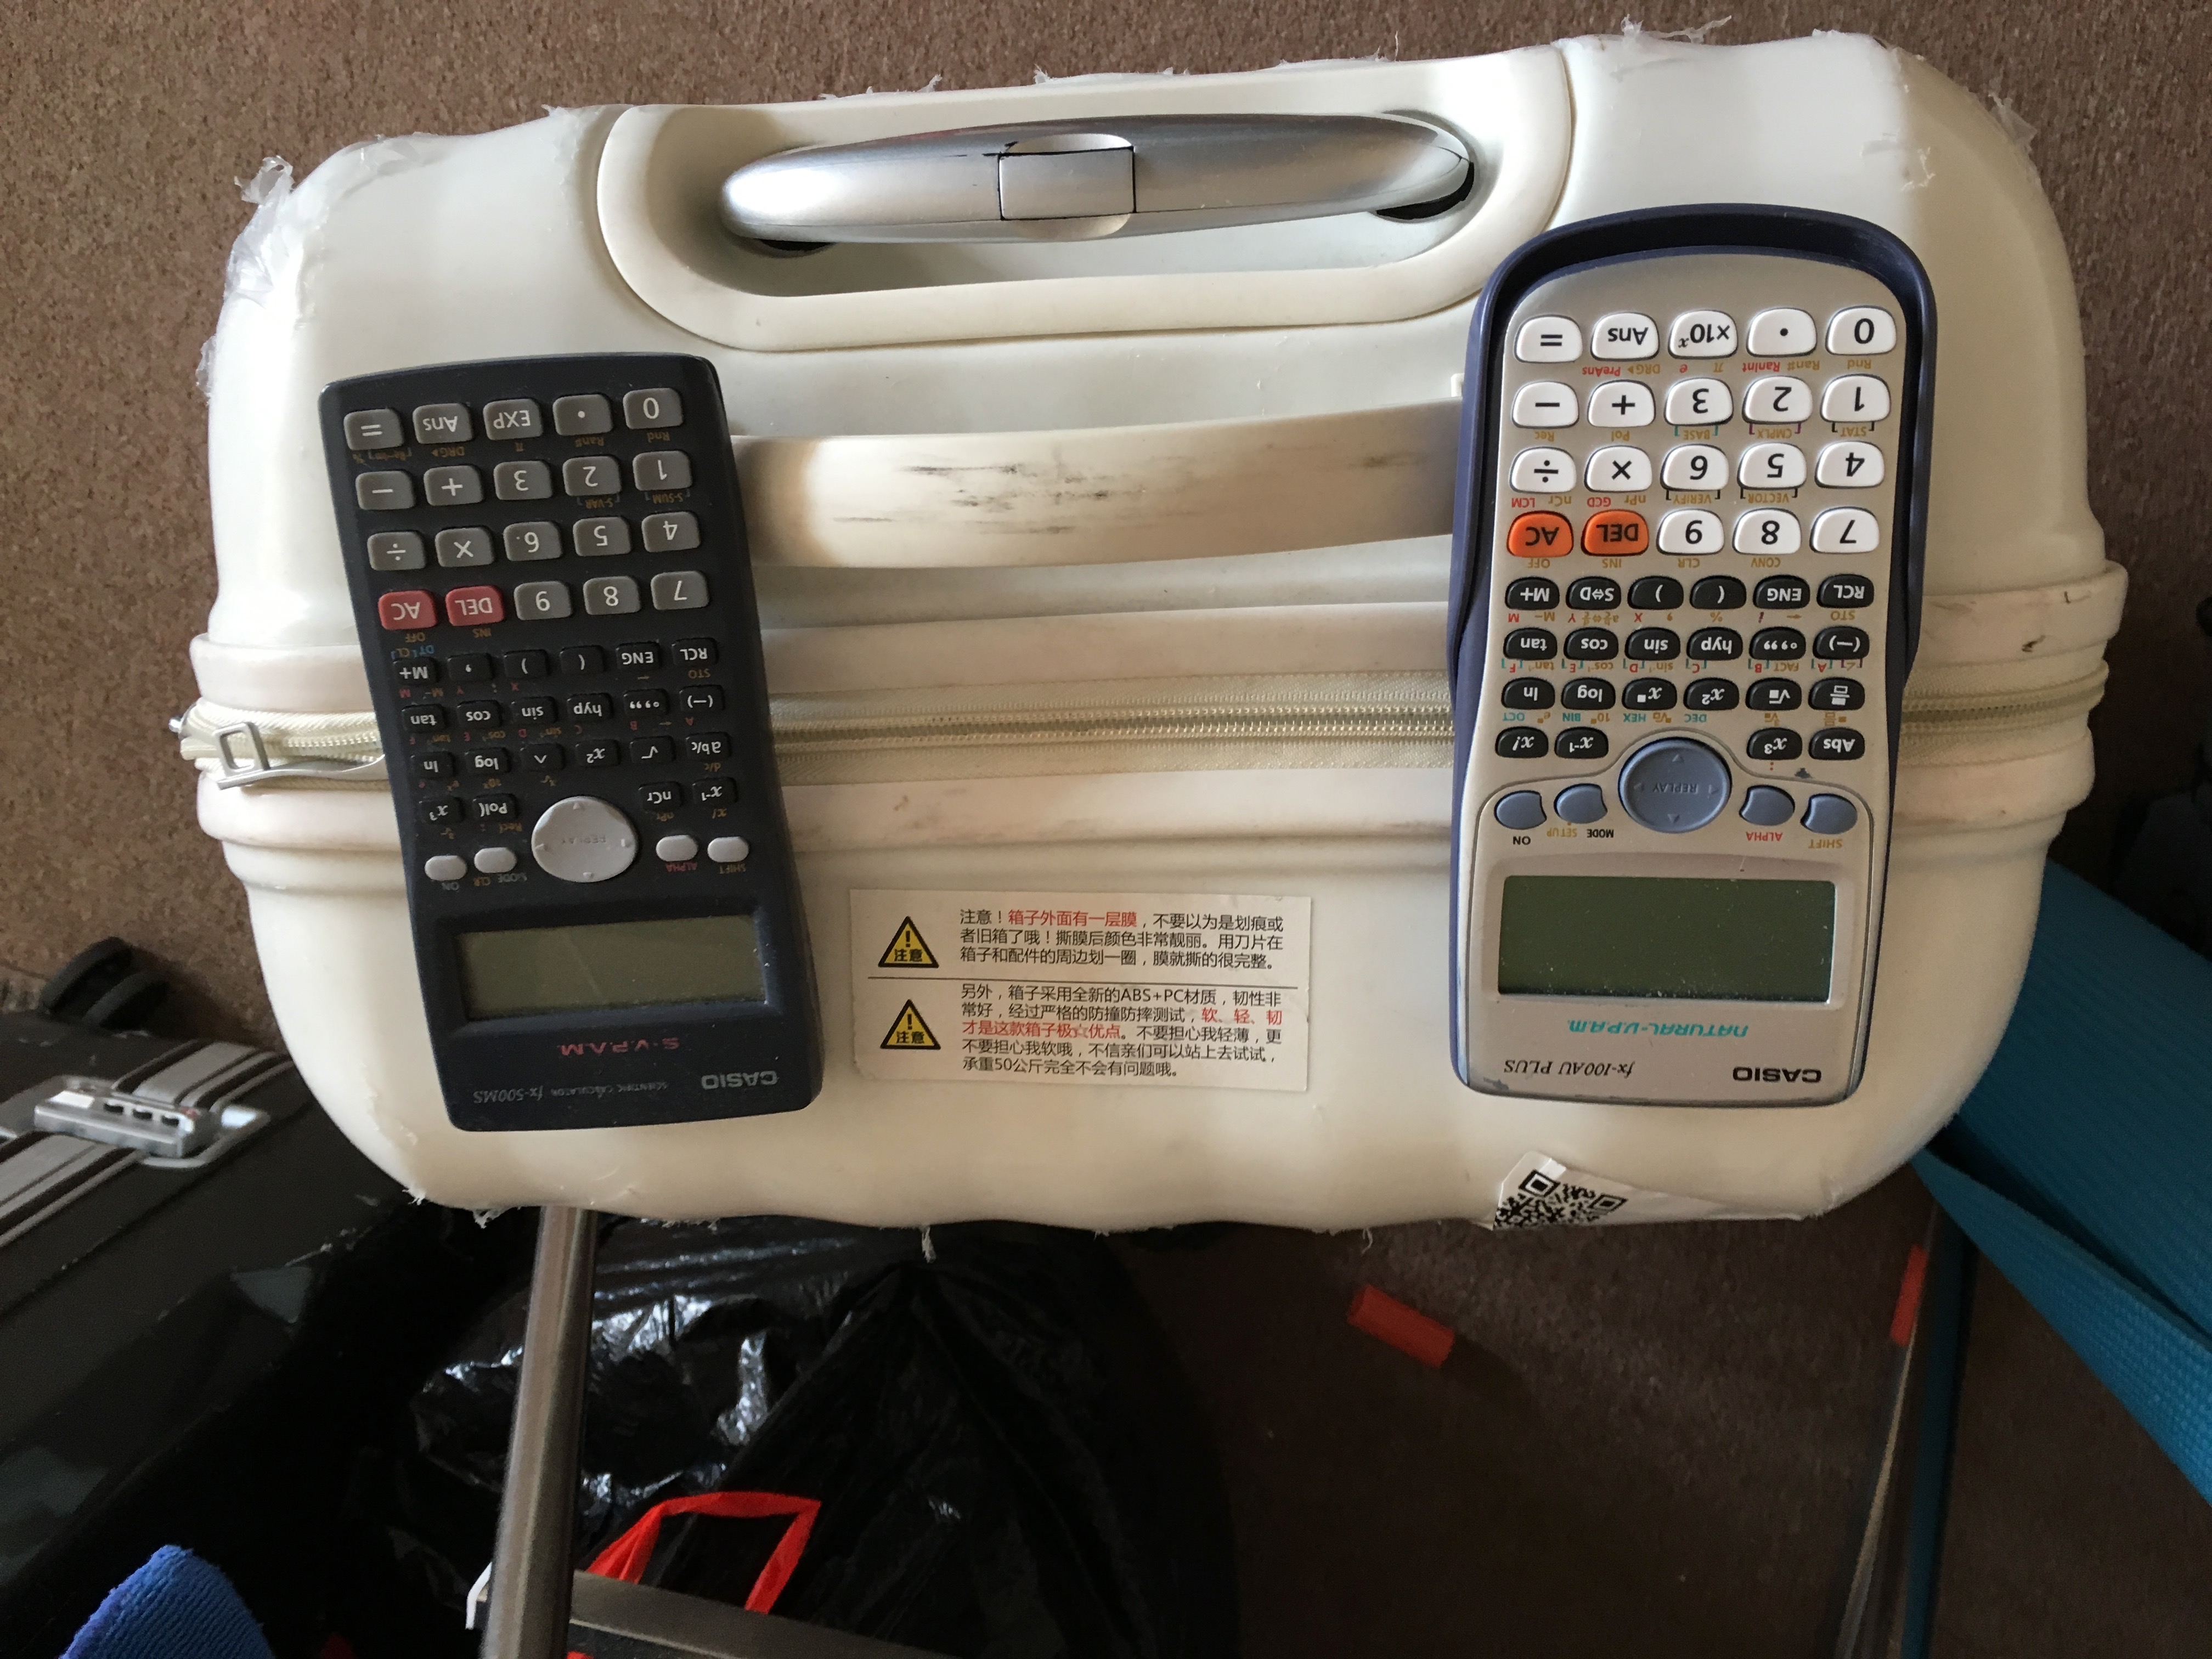Calculator: (1426, 186, 1944, 1121), (307, 345, 836, 1143)
